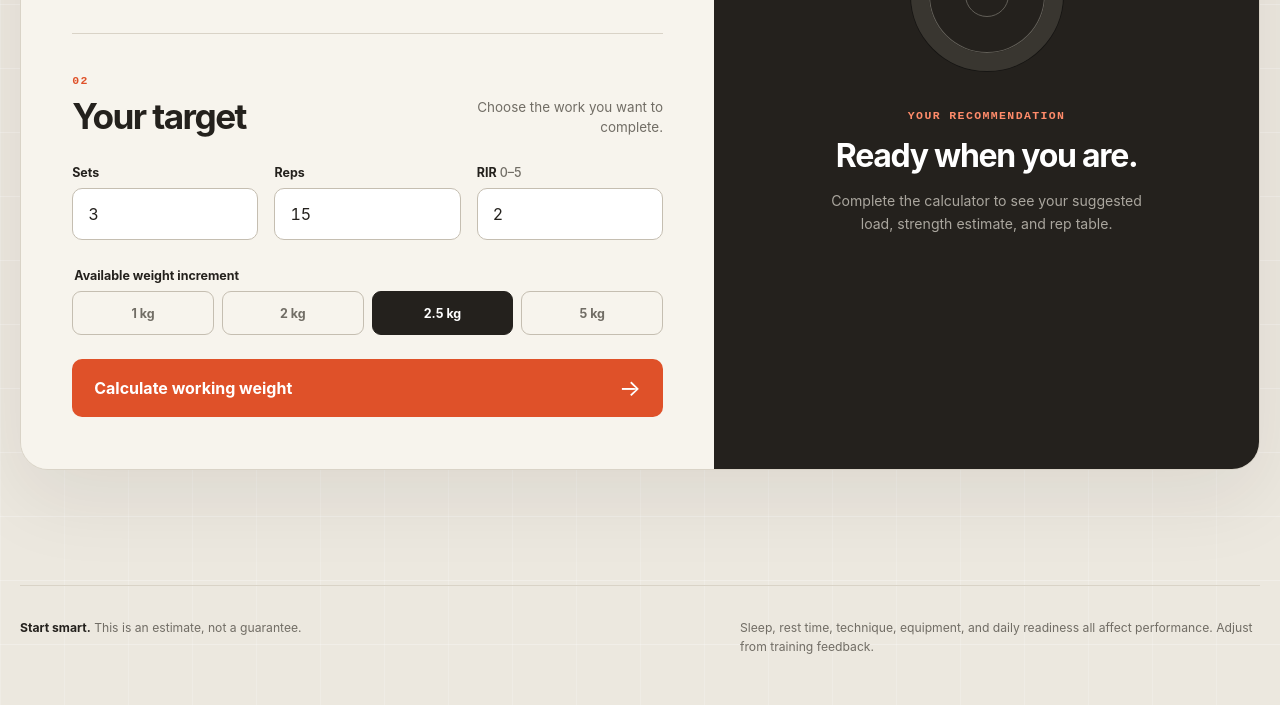
Scenario: calculator UI › calculates and displays the reference recommendation
(page scrolled)
Click the button "Calculate working weight →": (193,388) [72,359,663,417]
(page scrolled)
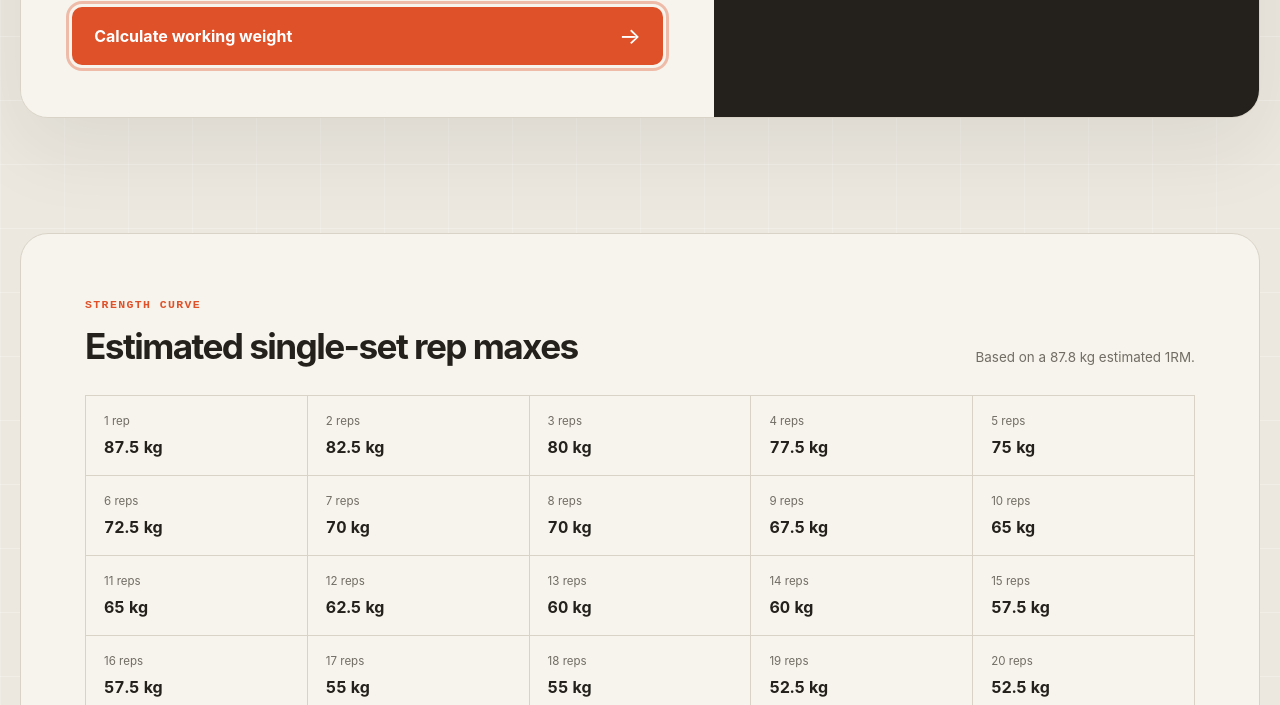
Result: the heading "Estimated single-set rep maxes" is shown at [85,325,578,367]
